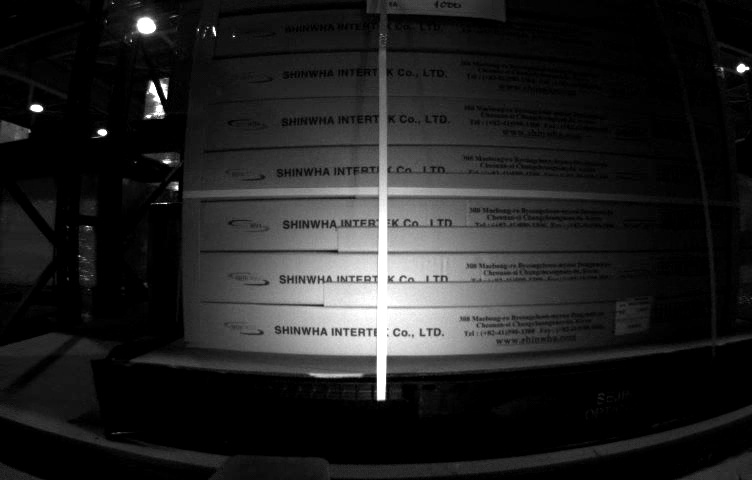True Barcode: (614, 297, 650, 333)
